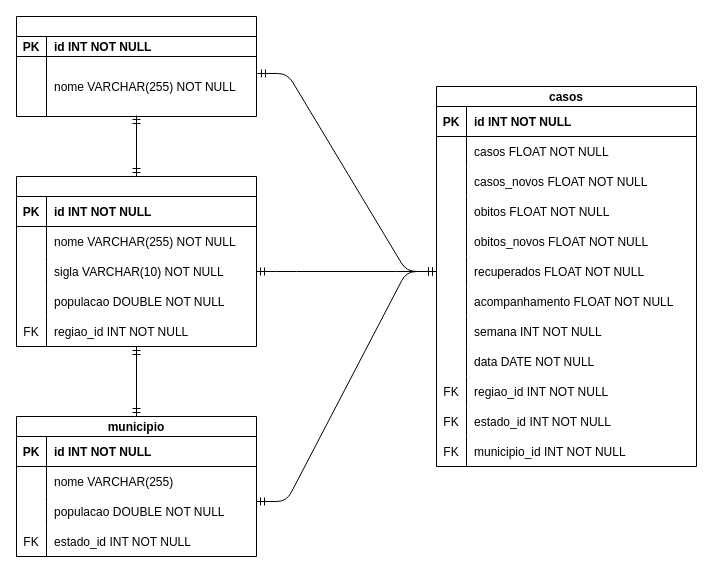
This 713x573 diagram has some shape labels left out. Each missing label, with the box of its shape:
estado: (16, 176, 256, 346)
regiao: (16, 16, 256, 116)
